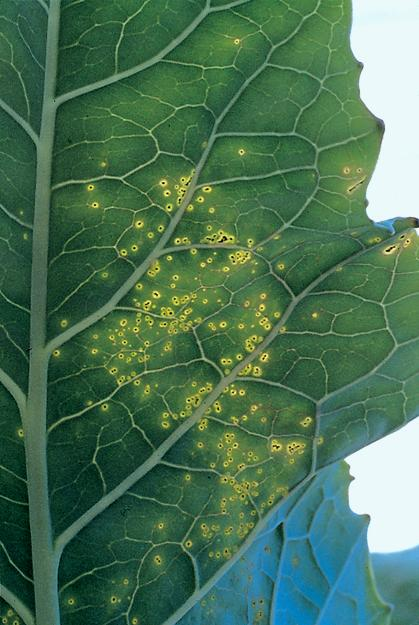Tomato leaf bacterial spot: (1, 16, 398, 603)
